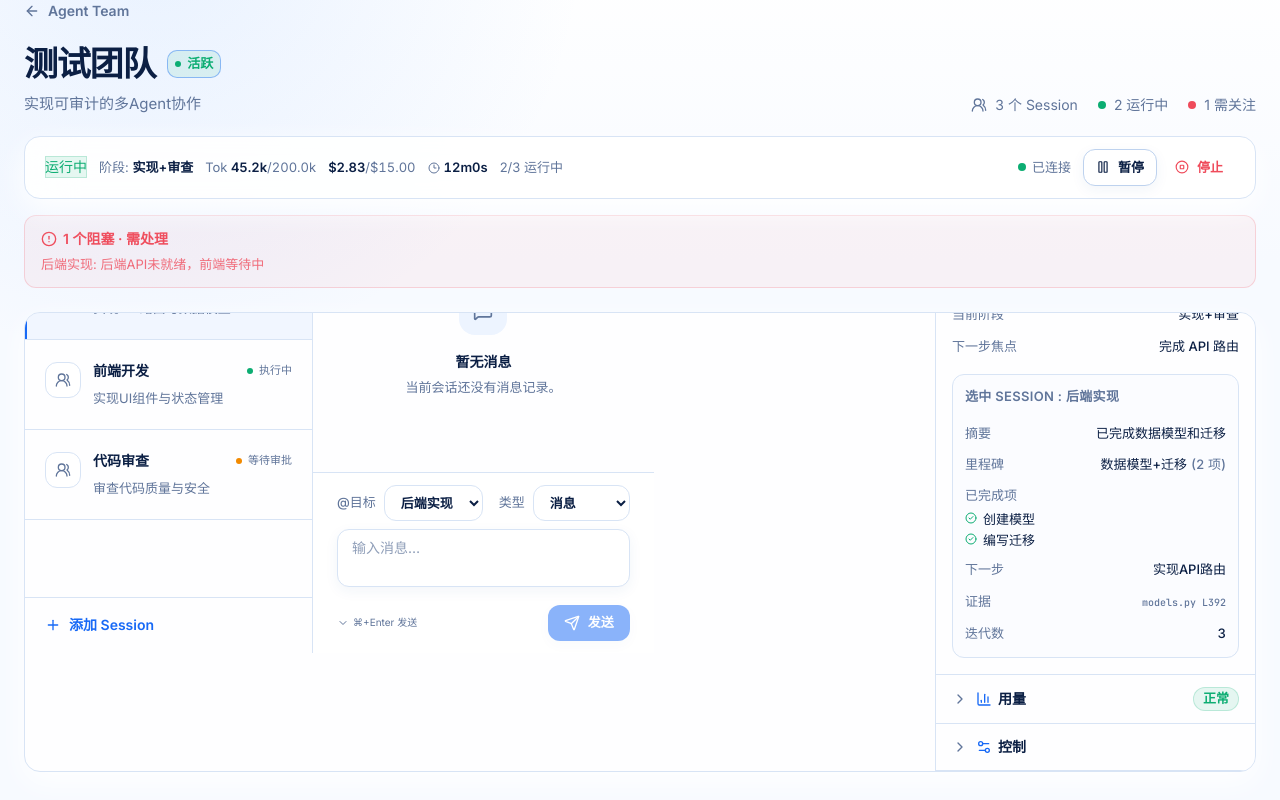
Team Observatory E2E › Scenario 4: Budget adjustment flow › confirm button disabled when budget input is cleared
(page scrolled)
Check: the heading "测试团队" is shown, box [24,44,155,84]
Click the button "控制" at point(960, 747), box [936,724,1255,770]
(page scrolled)
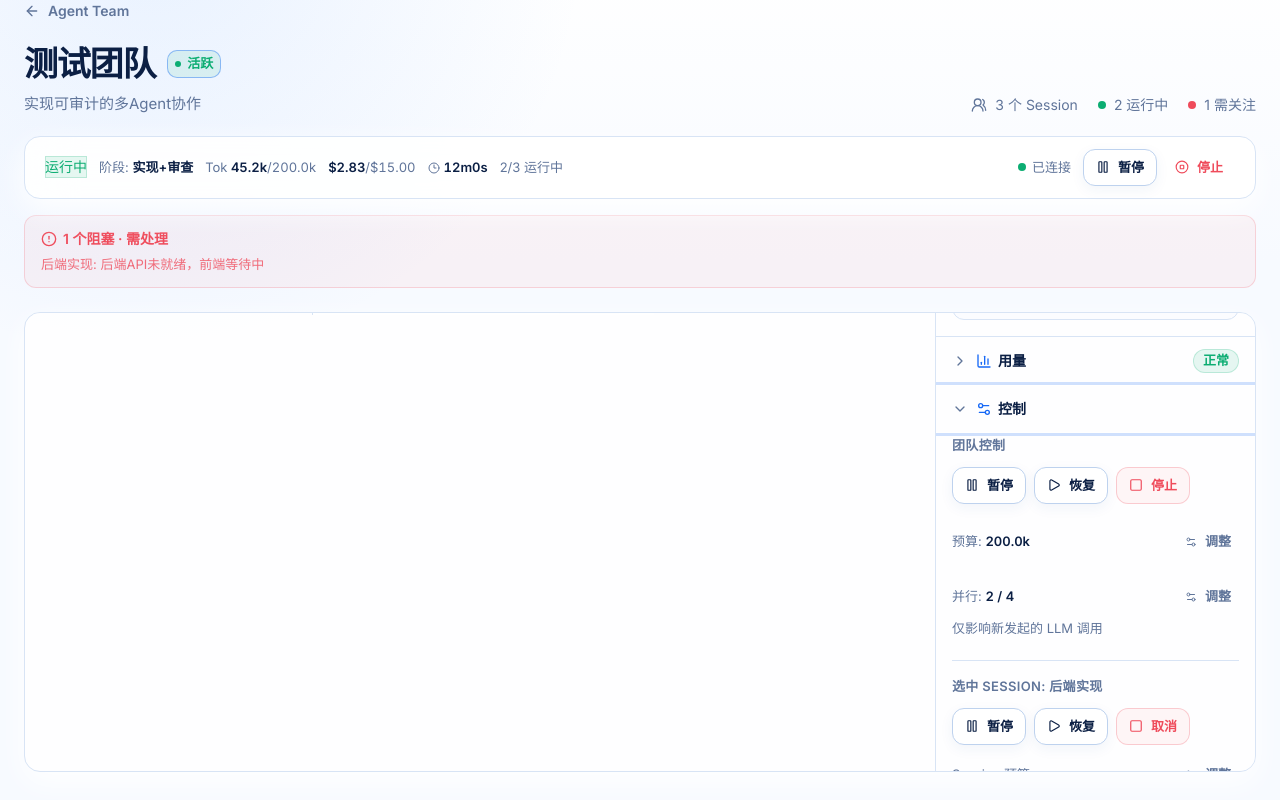
Check: the heading "团队控制" is shown, box [952,437,1005,453]
Click the button "调整" in the row of "预算:" at point(1208, 542), box [1177,524,1239,559]
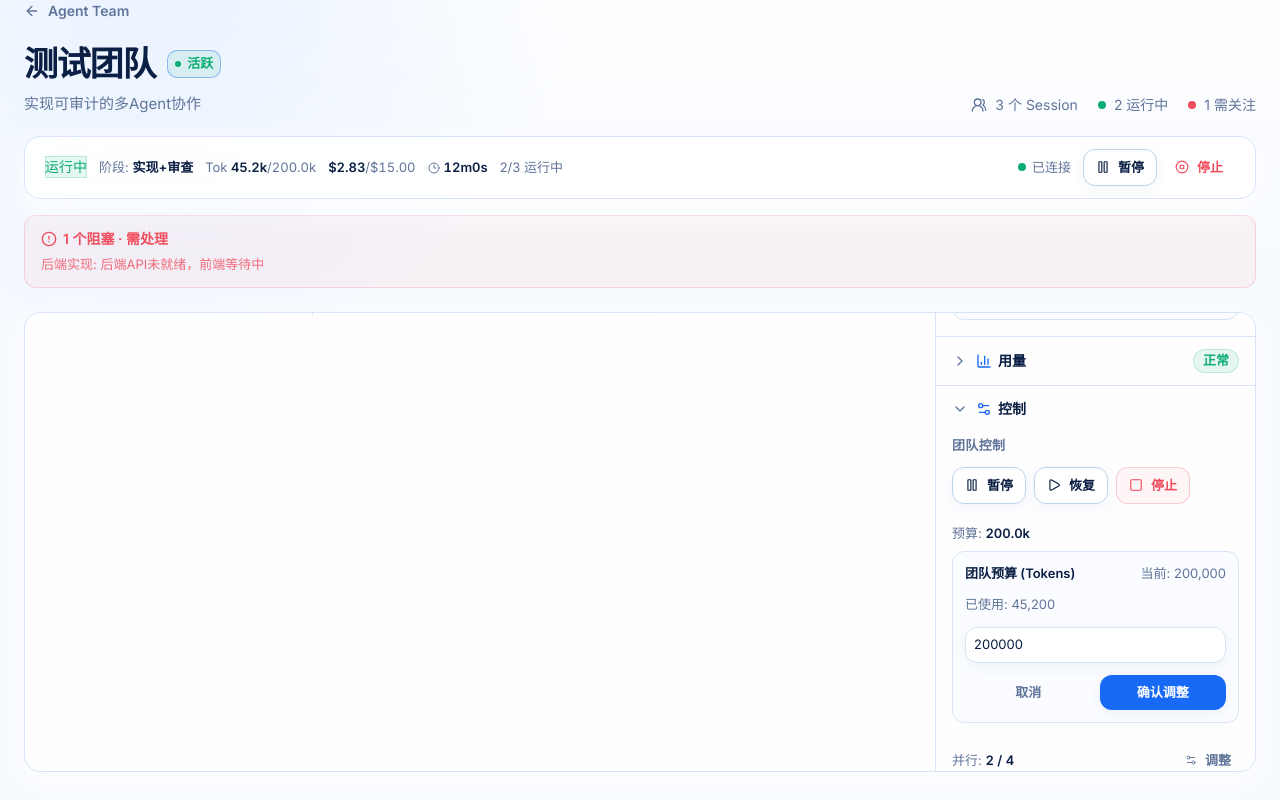
Check: the text "团队预算 (Tokens)" is shown, box [965,564,1075,583]
Clear the number field named "新值" at point(1096, 645), box [965,627,1226,663]
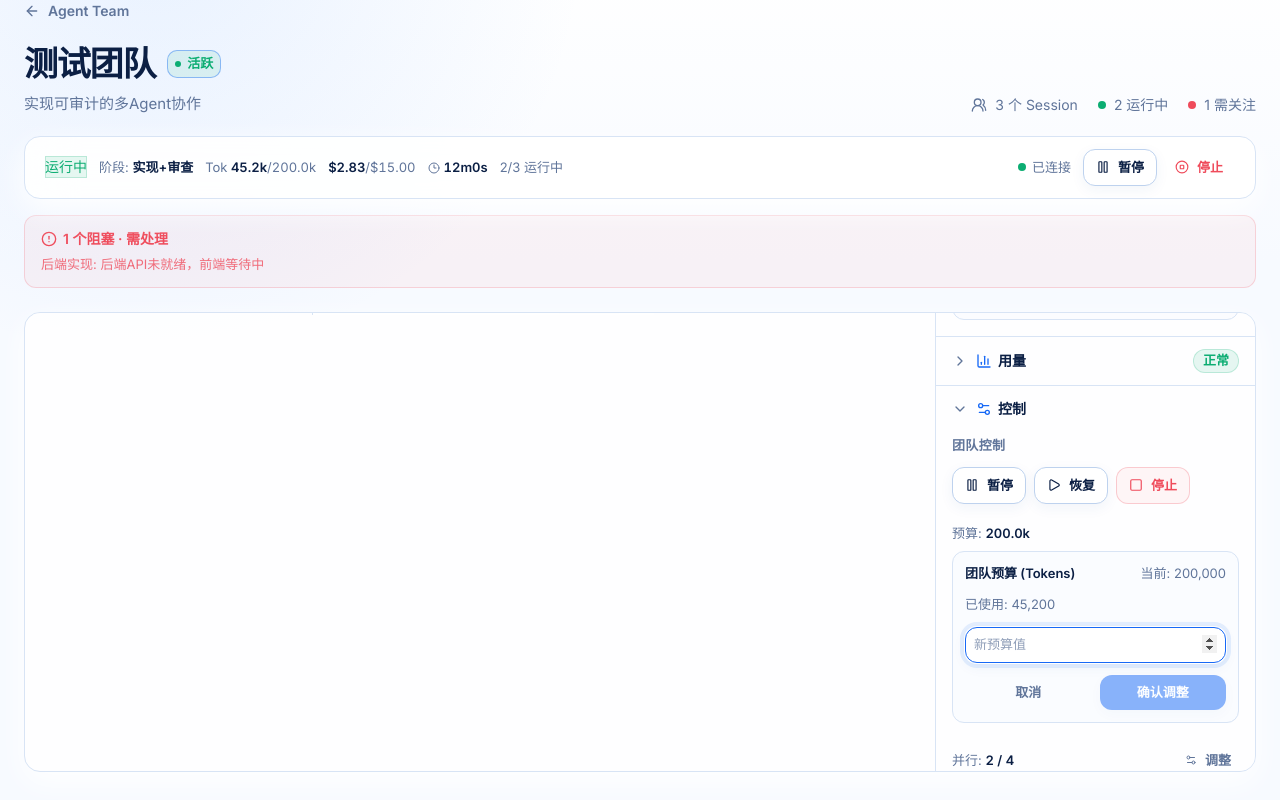
Check: the button "确认调整" is disabled, box [1100,675,1226,710]
